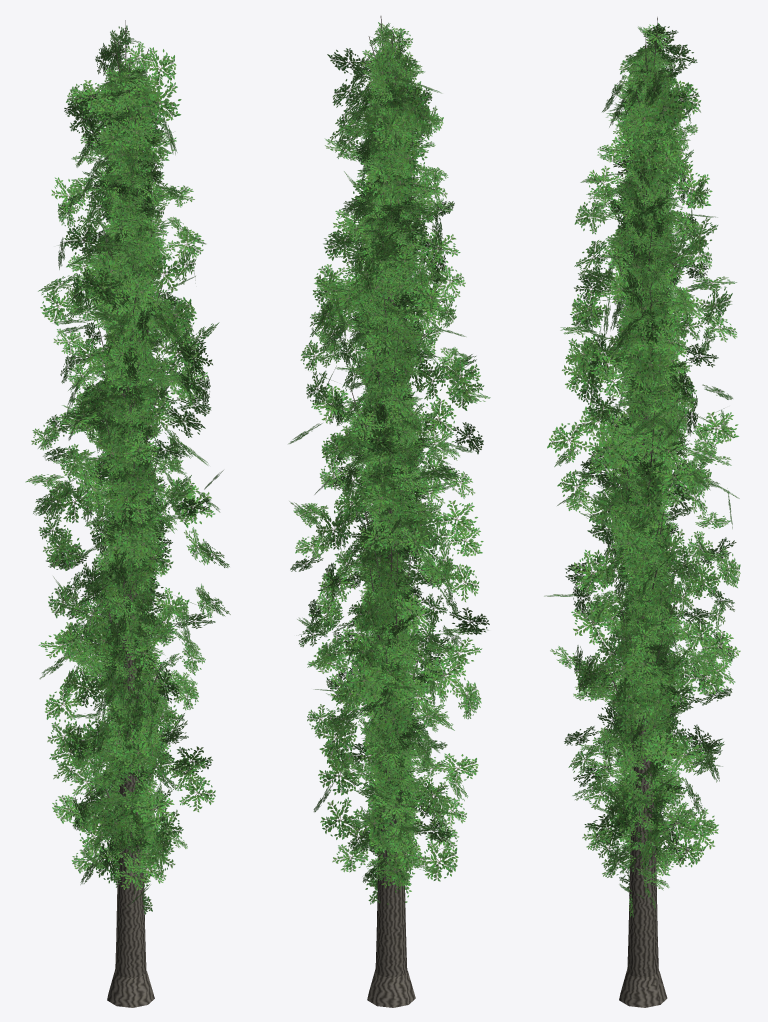
The model's file is terak_0.glb.
The picture shows the model from 3 angles, left to right: view 1: azimuth 30°, elevation 25°; view 2: azimuth 150°, elevation 25°; view 3: azimuth 270°, elevation 25°; orthographic projection.
Parts seen in each view (by area): view 1: terak_leaves, terak_bark; view 2: terak_leaves, terak_bark; view 3: terak_leaves, terak_bark.
Boxes of the visible parts, box(x1,y1,x2,y2) form: terak_leaves: box(25, 25, 230, 914); terak_bark: box(98, 20, 162, 1007); terak_leaves: box(288, 22, 490, 904); terak_bark: box(351, 16, 421, 1007); terak_leaves: box(544, 23, 740, 917); terak_bark: box(605, 17, 680, 1007).
Size of the model in its own units: 4.6 by 21.98 by 4.59.
Materials: 2 (2 with a texture image).
